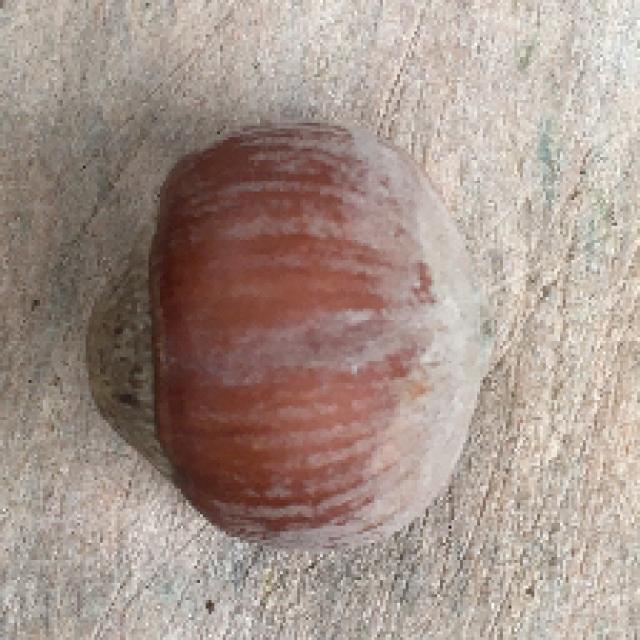qualityHazelnut: (89, 113, 489, 550)
